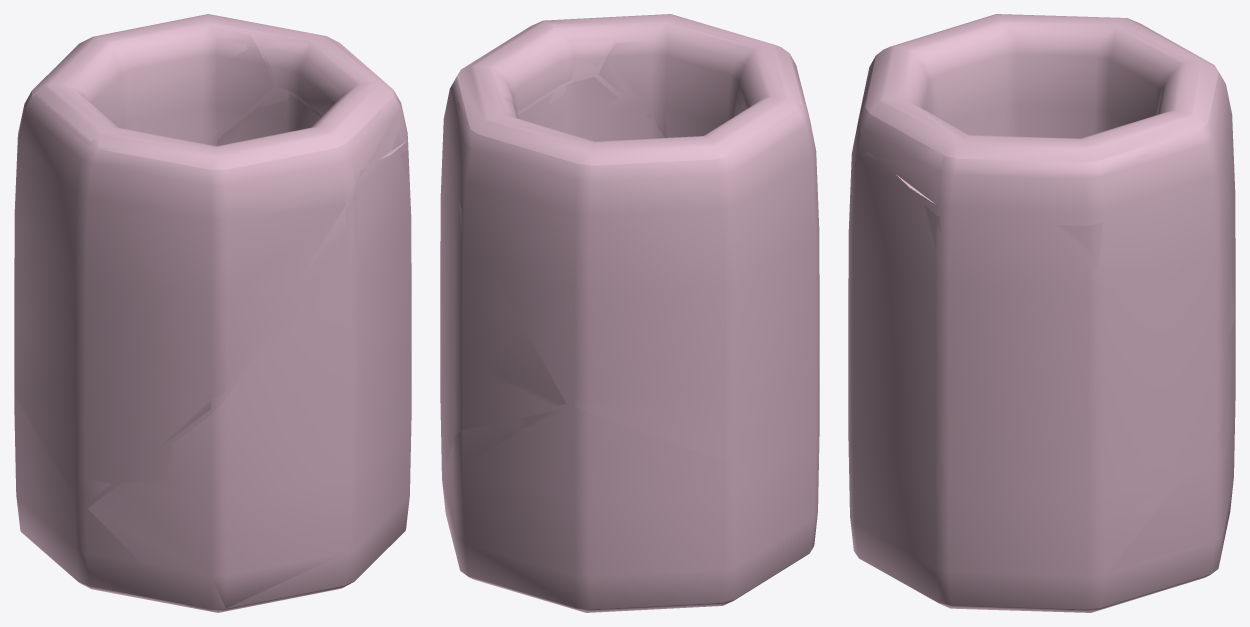
The model's file is Toothbrush_holder.fbx.
3 views of the same model, side by side, from view 1: azimuth 30°, elevation 25°; view 2: azimuth 150°, elevation 25°; view 3: azimuth 270°, elevation 25° (orthographic).
Visible parts, largest first — view 1: Toothbrush_holder, Toothbrush_holder_cell.002, Toothbrush_holder_cell.003, Toothbrush_holder_cell.001; view 2: Toothbrush_holder, Toothbrush_holder_cell.003, Toothbrush_holder_cell.004, Toothbrush_holder_cell.002, Toothbrush_holder_cell.001; view 3: Toothbrush_holder, Toothbrush_holder_cell.004, Toothbrush_holder_cell.002, Toothbrush_holder_cell.003, Toothbrush_holder_cell.001.
Part boxes in pixels (x1=…): Toothbrush_holder: x1=14, y1=14, x2=411, y2=612; Toothbrush_holder_cell.002: x1=88, y1=94, x2=409, y2=612; Toothbrush_holder_cell.003: x1=14, y1=28, x2=355, y2=502; Toothbrush_holder_cell.001: x1=255, y1=36, x2=407, y2=164; Toothbrush_holder: x1=440, y1=14, x2=819, y2=612; Toothbrush_holder_cell.003: x1=467, y1=25, x2=819, y2=466; Toothbrush_holder_cell.004: x1=442, y1=408, x2=733, y2=605; Toothbrush_holder_cell.002: x1=443, y1=77, x2=660, y2=458; Toothbrush_holder_cell.001: x1=457, y1=21, x2=626, y2=112; Toothbrush_holder: x1=850, y1=14, x2=1235, y2=612; Toothbrush_holder_cell.004: x1=1107, y1=312, x2=1235, y2=572; Toothbrush_holder_cell.002: x1=848, y1=151, x2=1234, y2=522; Toothbrush_holder_cell.003: x1=851, y1=54, x2=1188, y2=158; Toothbrush_holder_cell.001: x1=879, y1=109, x2=1152, y2=204.
Bounding box in the file's own units: 21.51 × 28.86 × 21.97.
